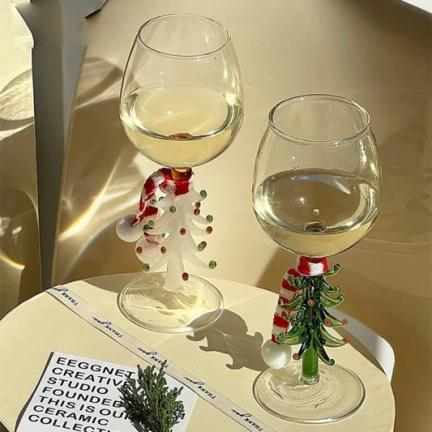container: (251, 93, 381, 257), (119, 13, 242, 169)
fluid: (254, 198, 380, 258), (123, 123, 238, 166)
fluid-surface: (255, 170, 369, 229), (126, 85, 236, 143)
